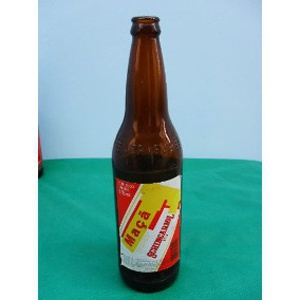emptybottle: (112, 16, 184, 294)
